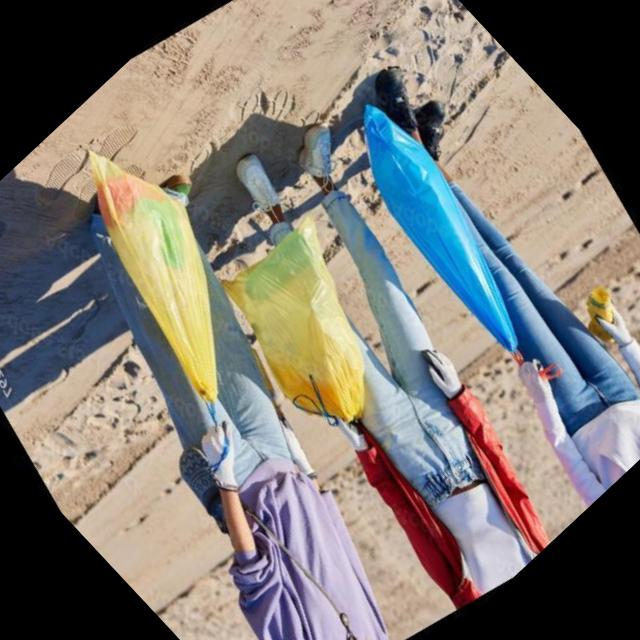KantongPlastik: (2, 70, 438, 514), (308, 79, 588, 368)
